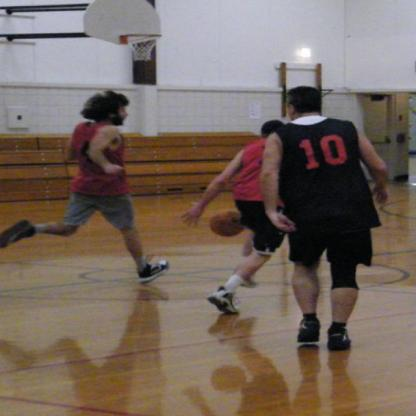basketball: (207, 208, 244, 236)
rim: (125, 32, 163, 43)
